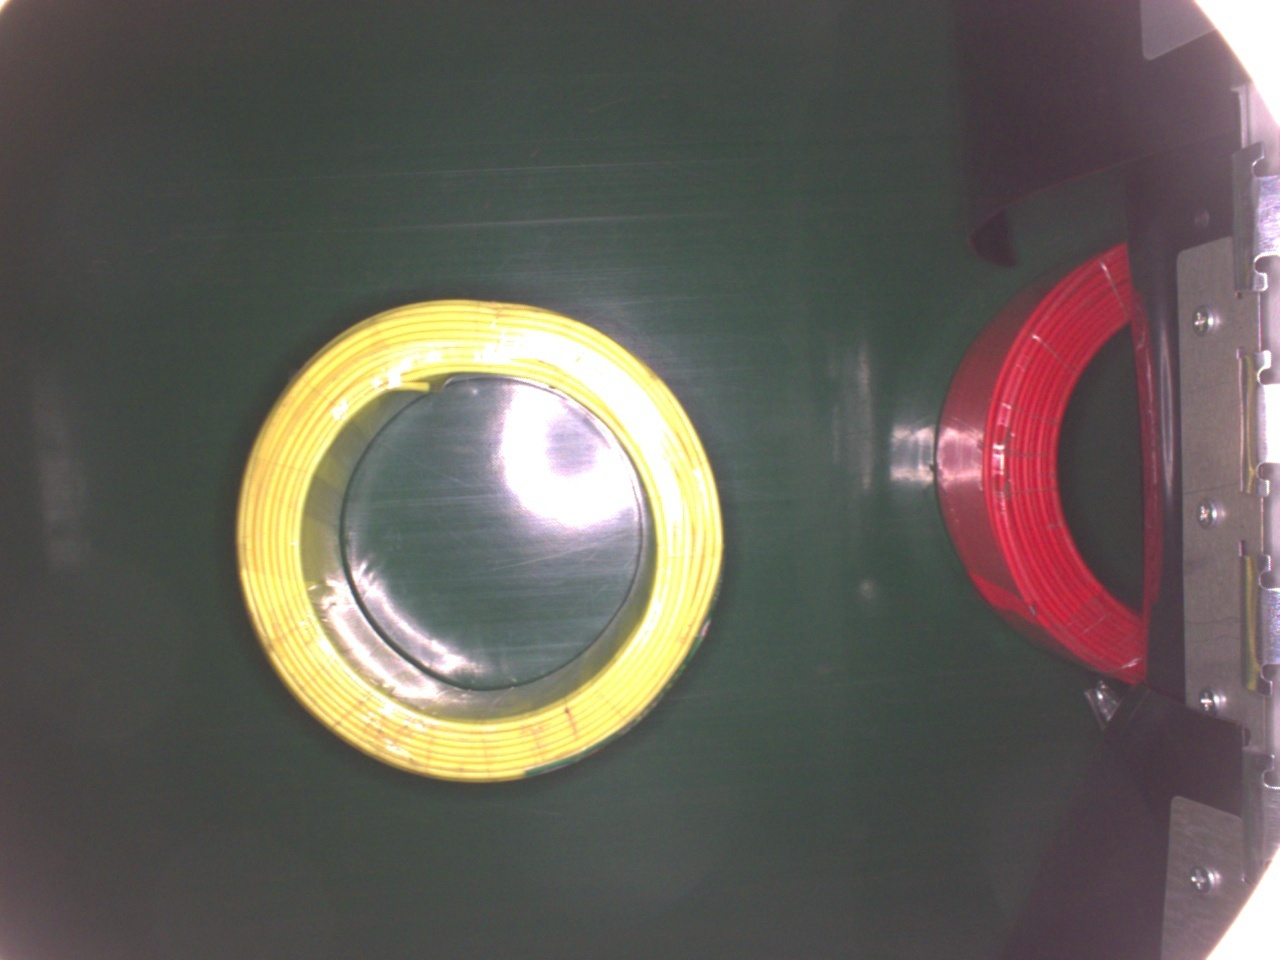red: (935, 235, 1152, 687)
yellow: (238, 295, 720, 785)
